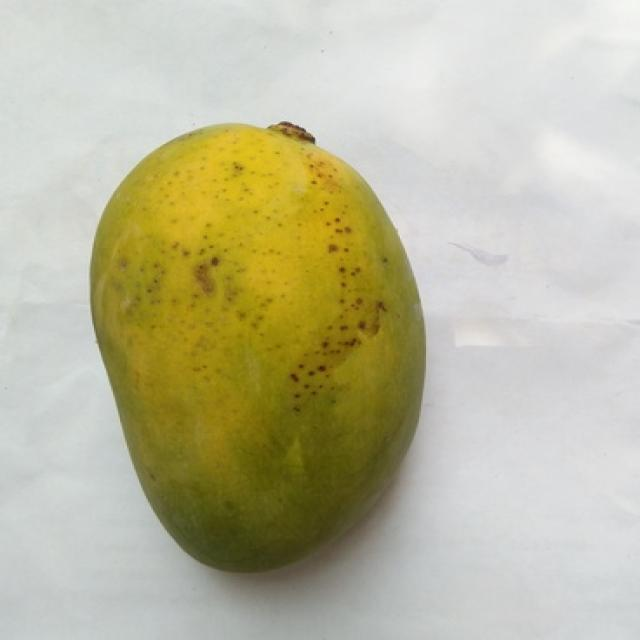Mango: (92, 125, 423, 570)
